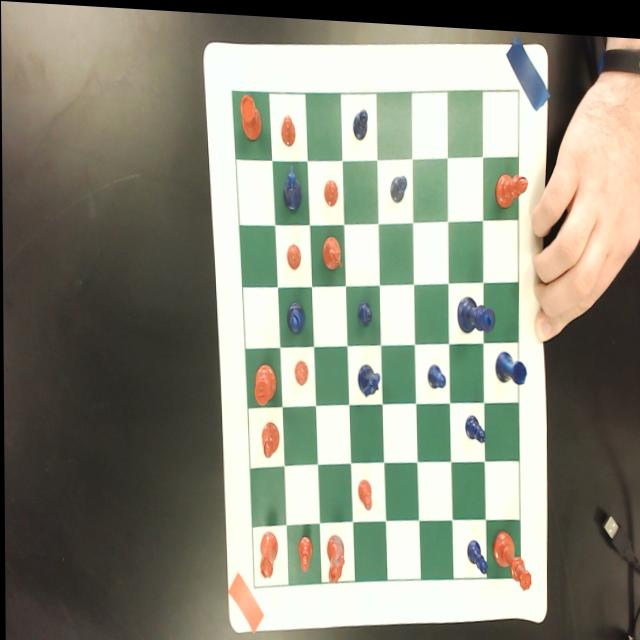B: (285, 297, 304, 331)
K: (456, 288, 494, 327)
N: (282, 159, 301, 209), (356, 358, 379, 391)
P: (464, 532, 487, 569), (463, 405, 485, 440), (351, 101, 367, 137), (388, 169, 407, 198), (425, 357, 445, 384), (356, 294, 372, 323)
R: (493, 342, 526, 378)
b: (494, 163, 527, 204), (259, 417, 278, 455)
k: (253, 357, 275, 403)
n: (324, 529, 345, 580), (319, 230, 341, 268)
p: (296, 529, 311, 570), (280, 109, 295, 142), (356, 474, 371, 505), (322, 175, 338, 202), (285, 240, 299, 265), (293, 356, 307, 381)
q: (491, 522, 530, 584)
r: (238, 90, 261, 138), (257, 525, 277, 577)
